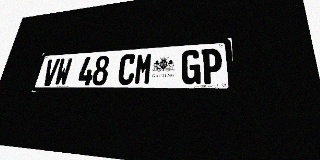4: (77, 56, 96, 86)
8: (91, 55, 111, 85)
C: (117, 54, 137, 85)
G: (181, 49, 201, 84)
M: (133, 53, 153, 85)
P: (201, 48, 223, 84)
V: (41, 59, 60, 86)
W: (54, 58, 73, 86)
